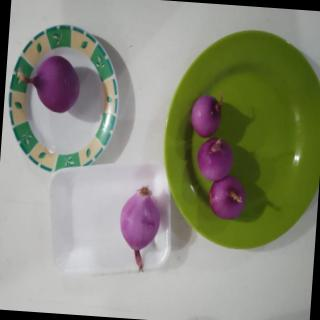Bawang Merah: (115, 183, 168, 276), (19, 51, 89, 116), (205, 174, 250, 222), (185, 88, 226, 140), (193, 136, 239, 182)
